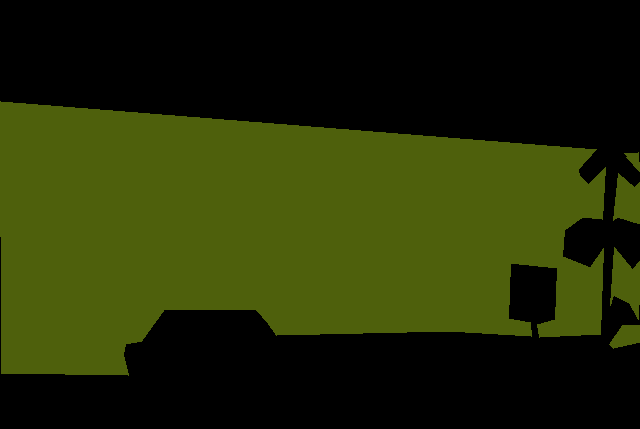Train: (0, 101, 640, 375)
